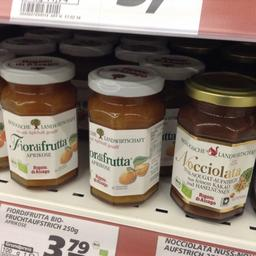jam: (169, 70, 255, 223), (86, 62, 164, 204), (0, 55, 79, 190)
